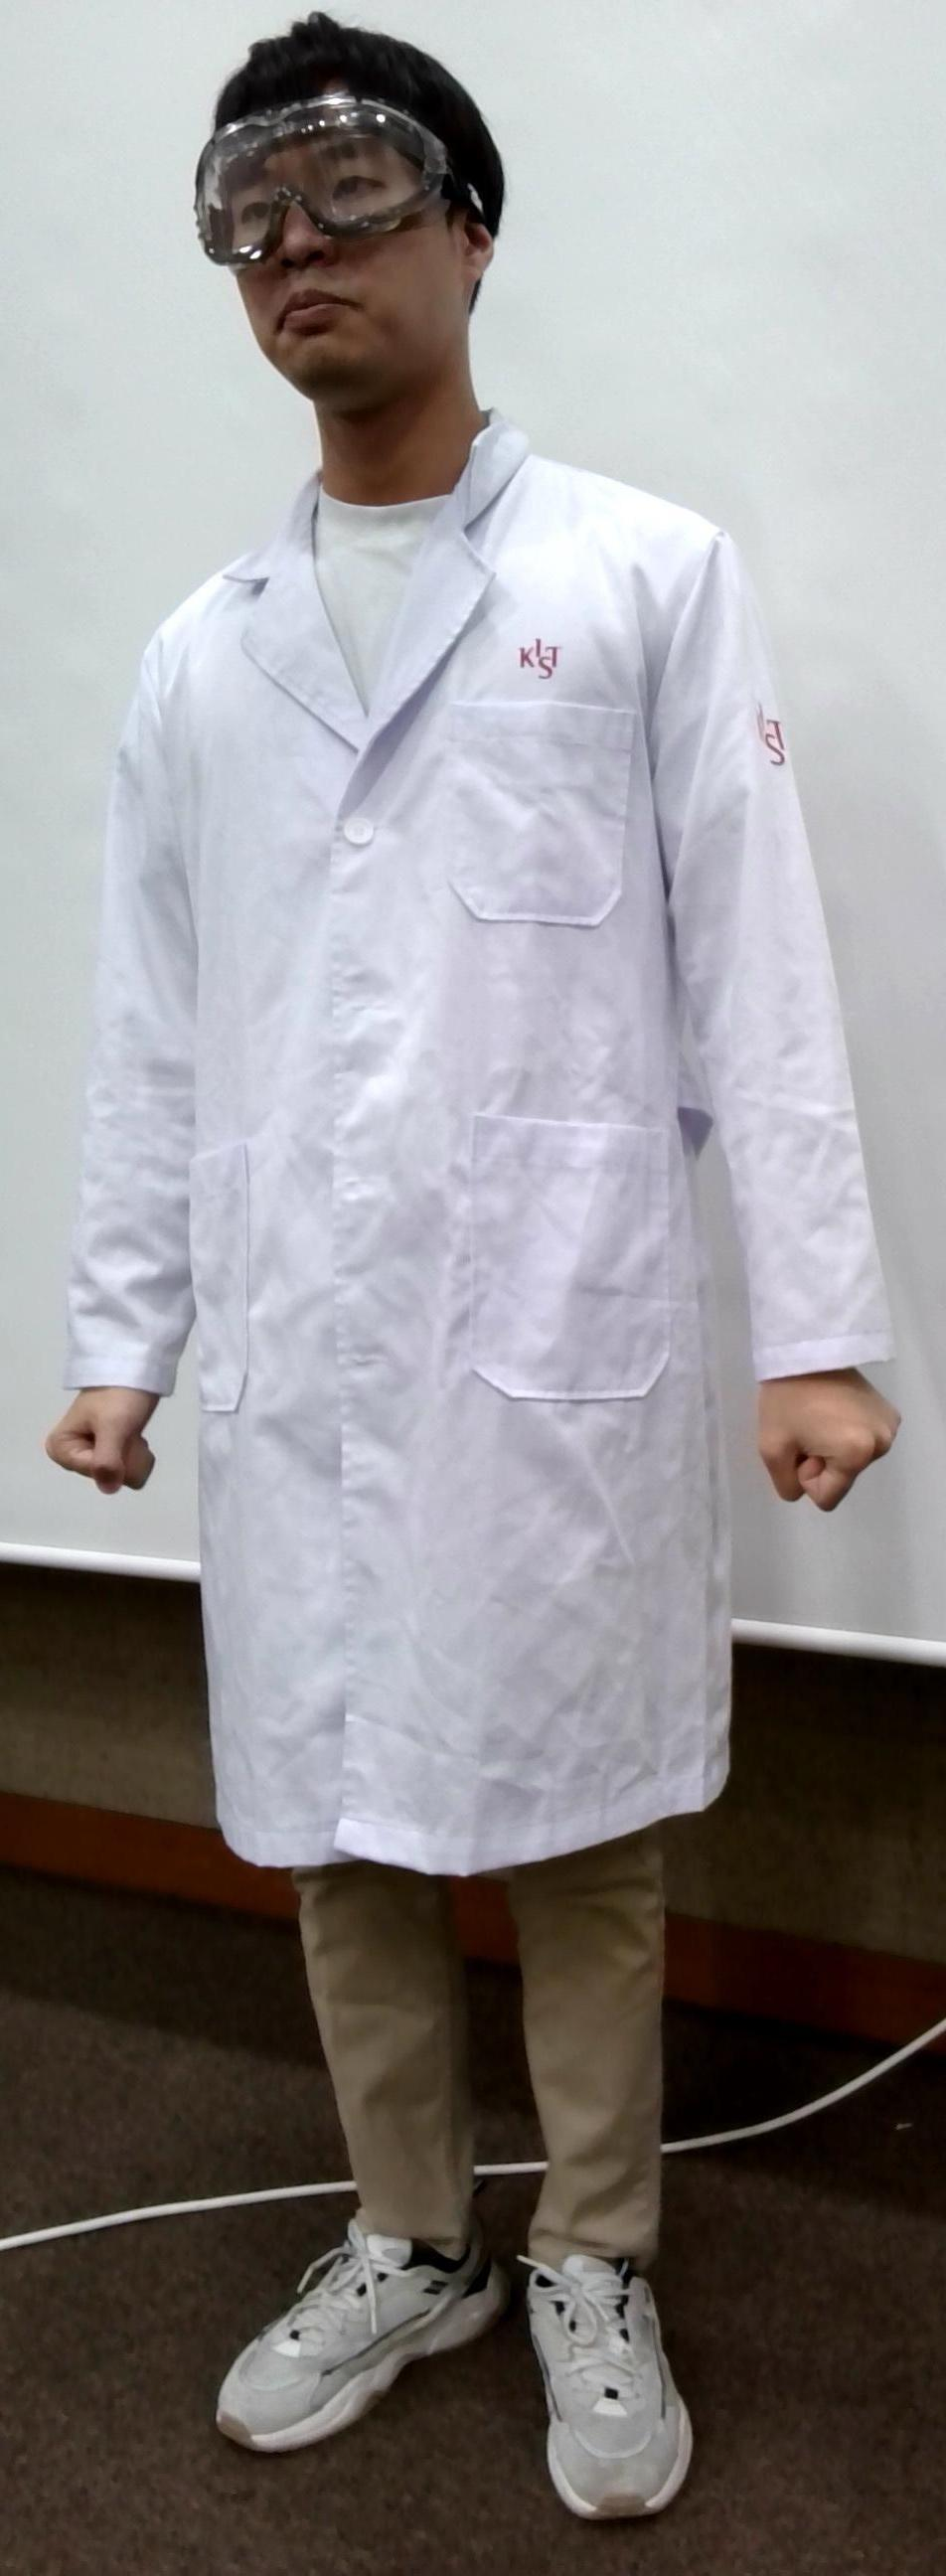lab_coat: (174, 572, 718, 1809)
